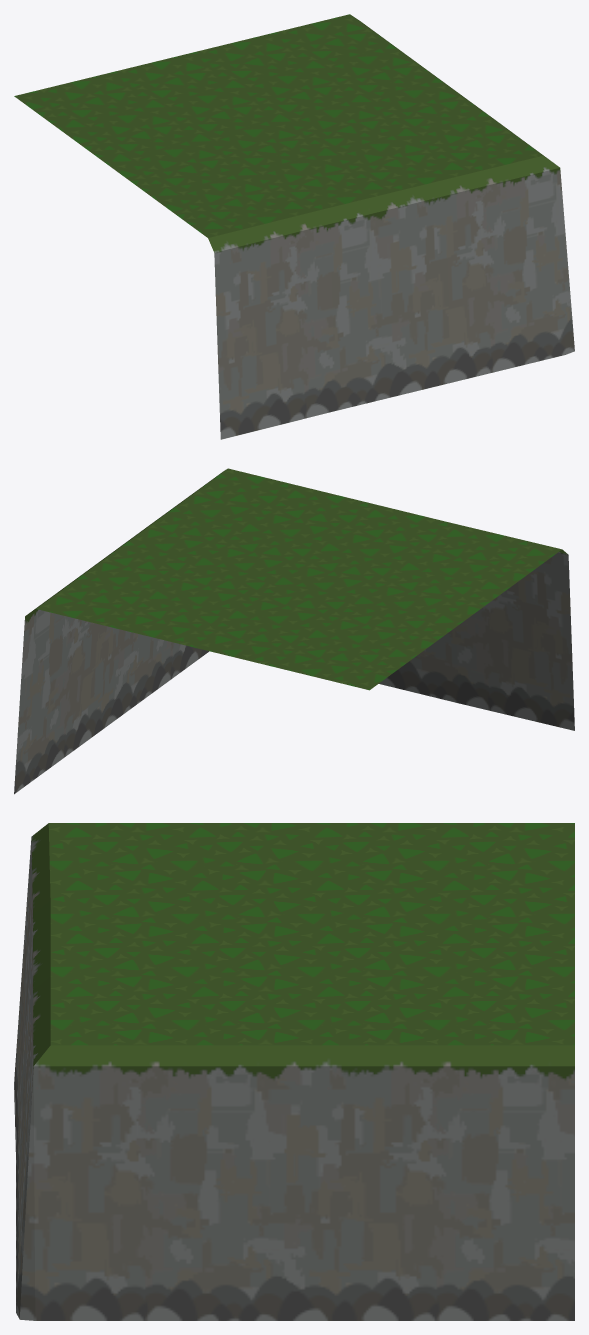
The model's file is chunk_0015.glb.
3 views of the same model, one above another, from view 1: azimuth 30°, elevation 25°; view 2: azimuth 150°, elevation 25°; view 3: azimuth 270°, elevation 25° (orthographic). The views are drawn at different scales.
Parts seen in each view (by area): view 1: chunk_0015; view 2: chunk_0015; view 3: chunk_0015.
Boxes of the visible parts, x1,y1,x2,y2 form: chunk_0015: (14, 14, 574, 439); chunk_0015: (14, 468, 574, 794); chunk_0015: (14, 823, 574, 1320).
Bounding box in the file's own units: 7.8 × 4 × 7.8.
Materials: 2 (2 with a texture image).
